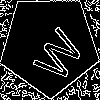W: (24, 20, 87, 85)
